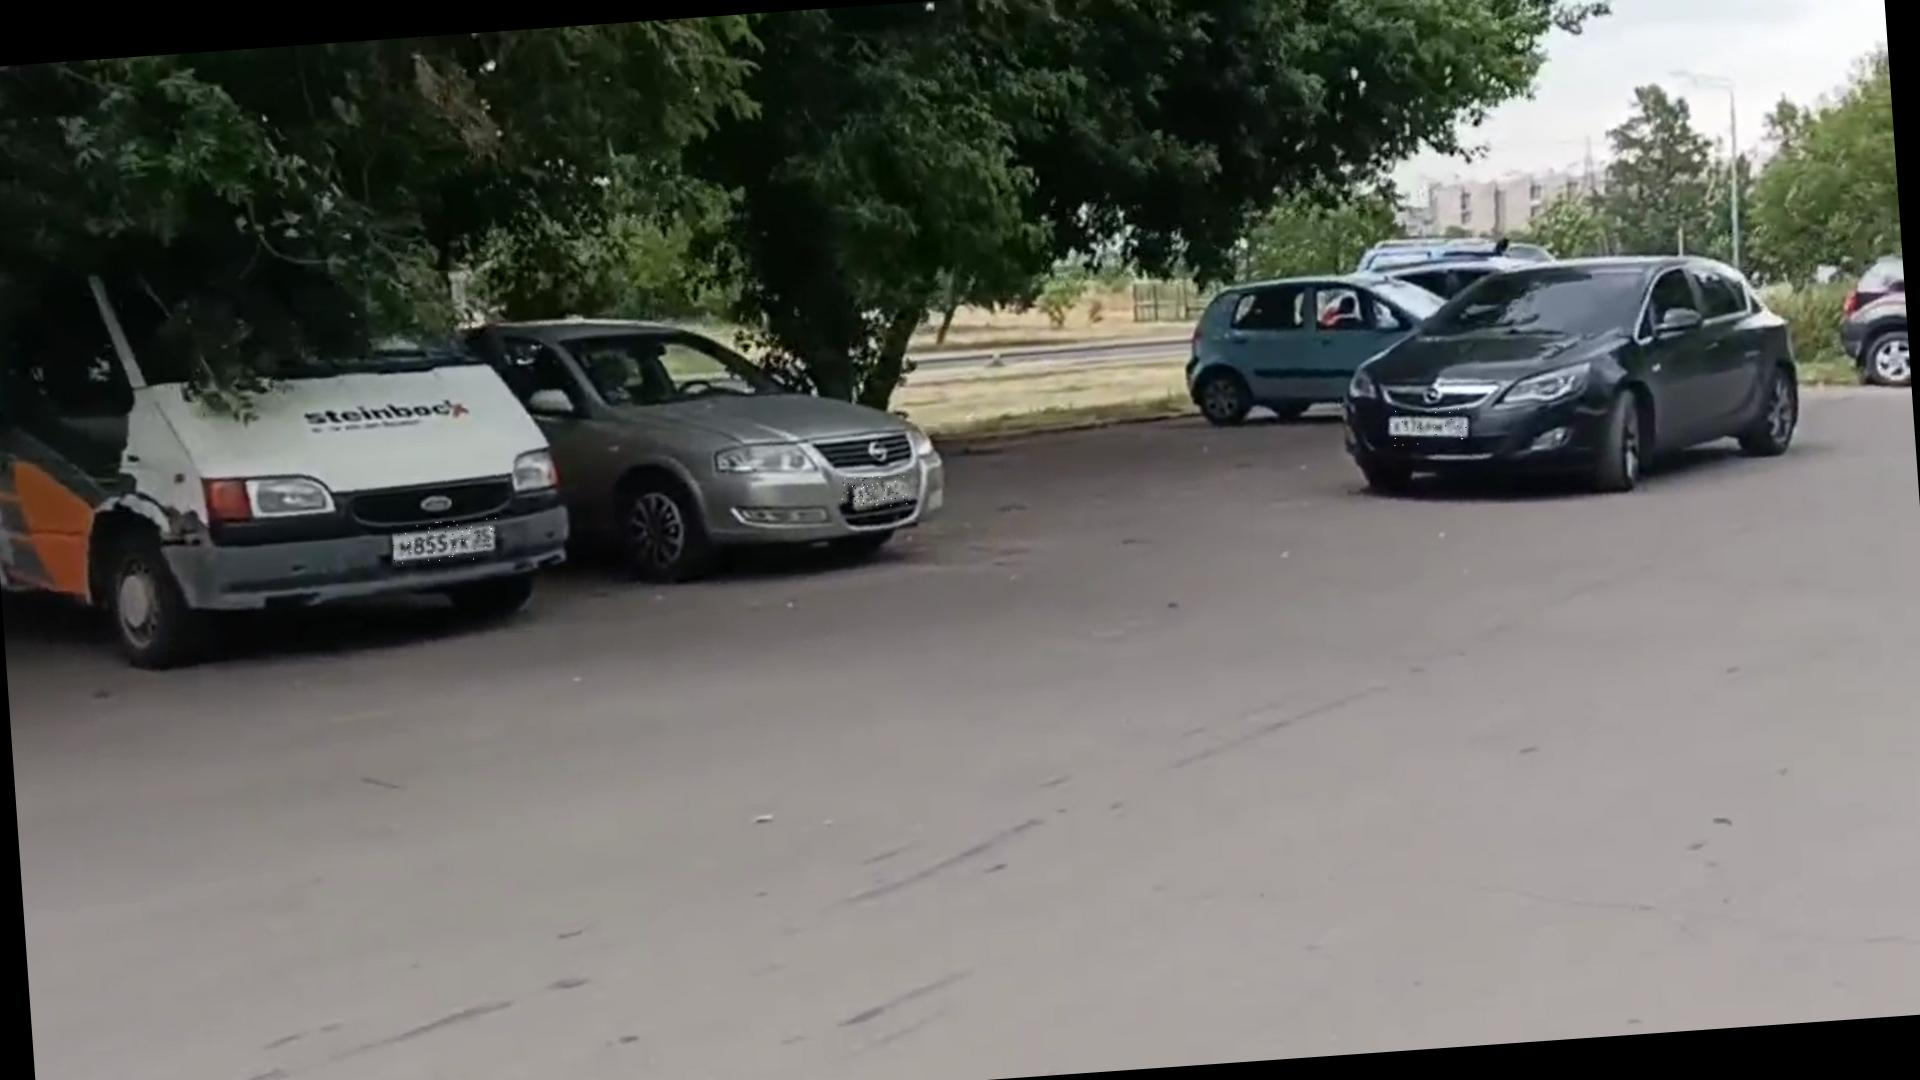plate: (393, 519, 502, 566), (1390, 407, 1471, 449), (842, 475, 910, 511)
